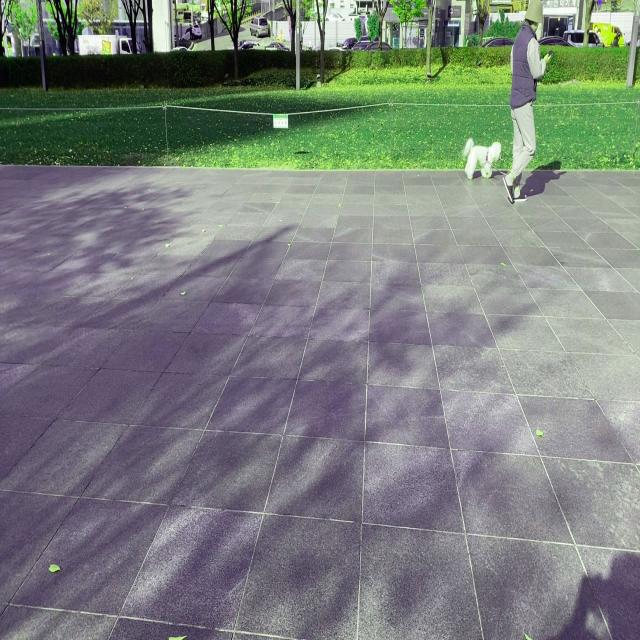Leashed_Dog: (463, 105, 528, 182)
